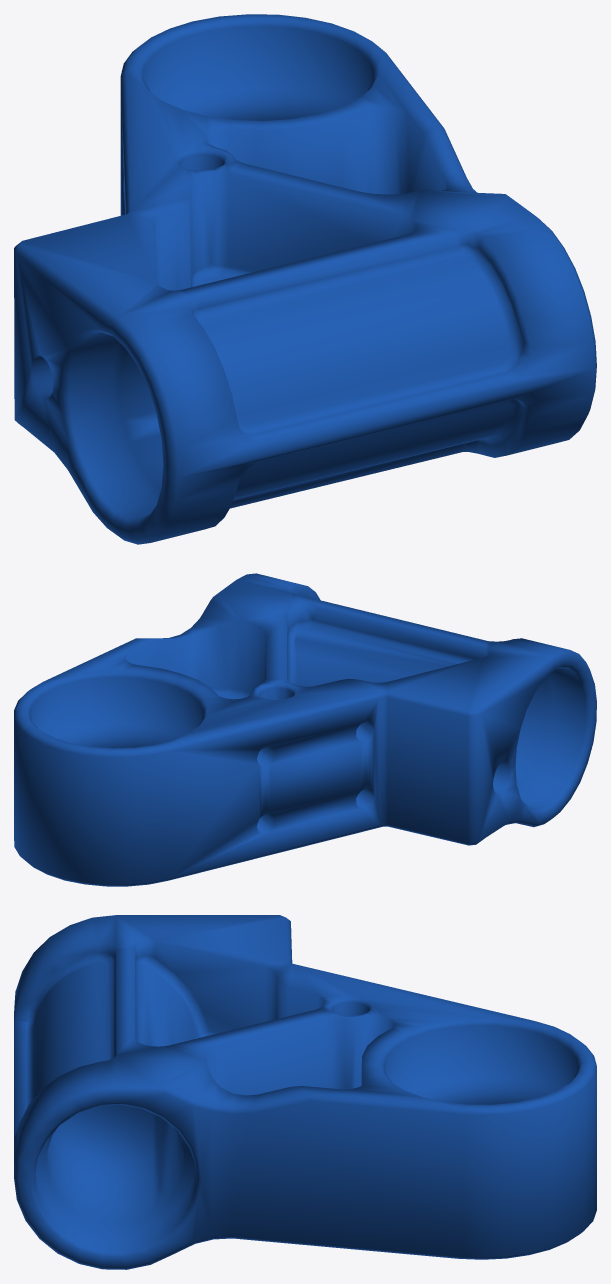
File: left_hip_roll.obj
3 renders of one model, top to bottom at view 1: azimuth 30°, elevation 25°; view 2: azimuth 150°, elevation 25°; view 3: azimuth 270°, elevation 25°, orthographic. The views are drawn at different scales.
Size of the model in its own units: 0.1013 by 0.044 by 0.1261.
